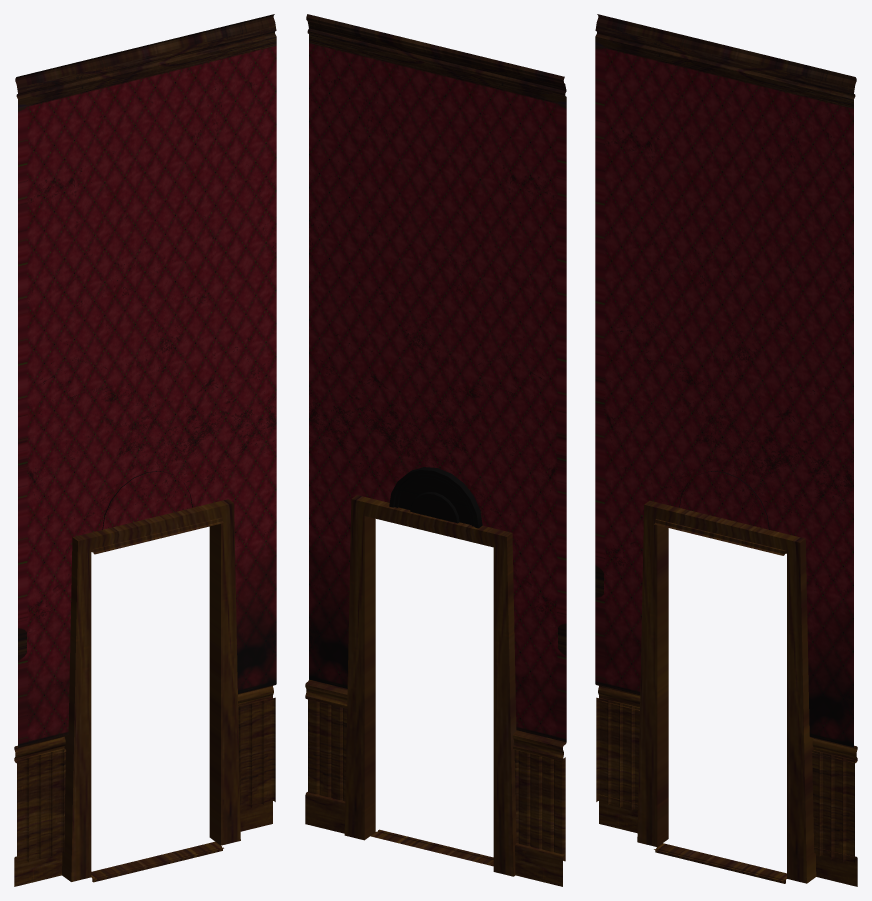
File: Elevator_wall.fbx
3 renders of one model, left to right at view 1: azimuth 30°, elevation 25°; view 2: azimuth 150°, elevation 25°; view 3: azimuth 330°, elevation 25°, orthographic.
Visible parts, largest first — view 1: polySurface2; view 2: polySurface2; view 3: polySurface2.
Part boxes in pixels (x1,y1,x2,y2): polySurface2: [14, 14, 276, 886]; polySurface2: [305, 14, 566, 886]; polySurface2: [595, 14, 857, 886].
Bounding box in the file's own units: 200 × 603 × 19.83.
